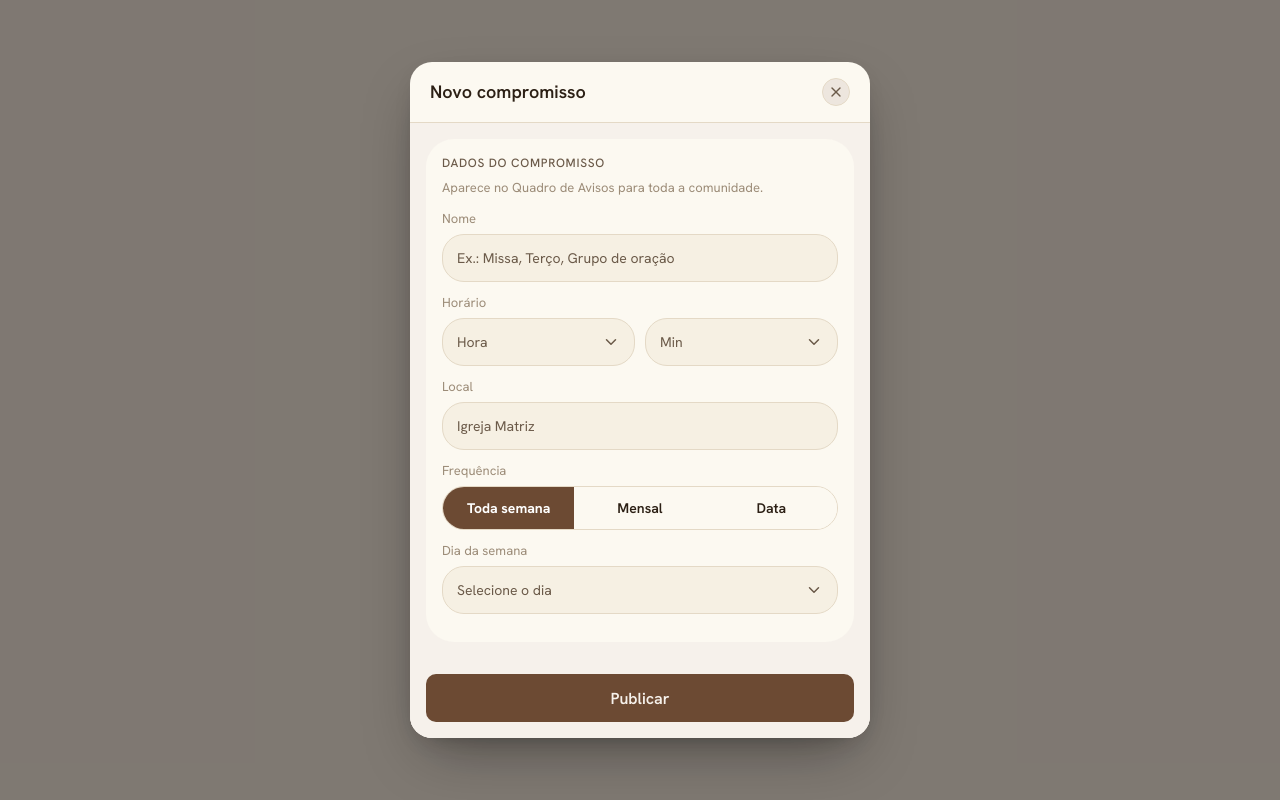
it: ModalCommitmentForm · criação › limpa o erro do campo ao digitar
Click the button "Publicar".
click(640, 698)  # box x1=426 y1=674 x2=854 y2=722
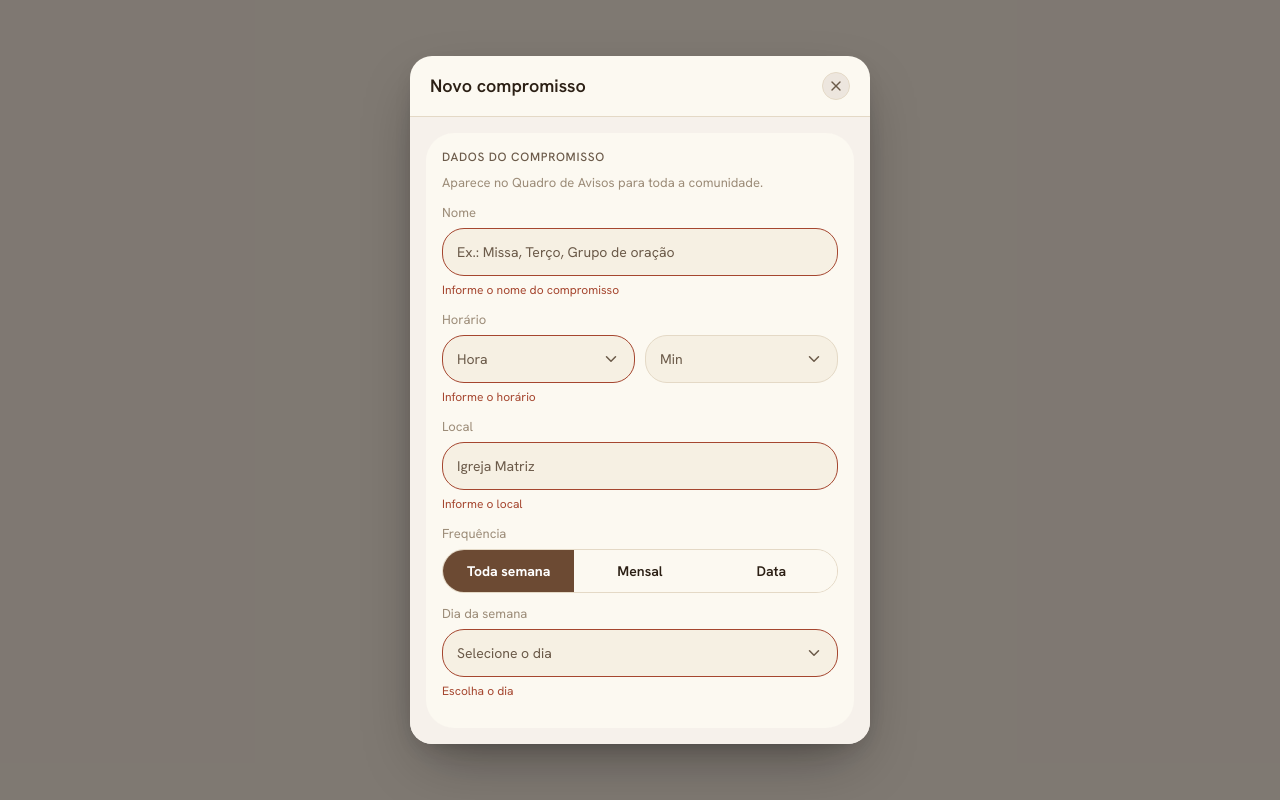
expect the text "Informe o nome do compromisso" is shown: met, box x1=442 y1=282 x2=619 y2=298
Type "Terço" into the field with placeholder "Ex.: Missa, Terço, Grupo de oração".
click(640, 252); type("Terço")  # box x1=457 y1=229 x2=823 y2=275
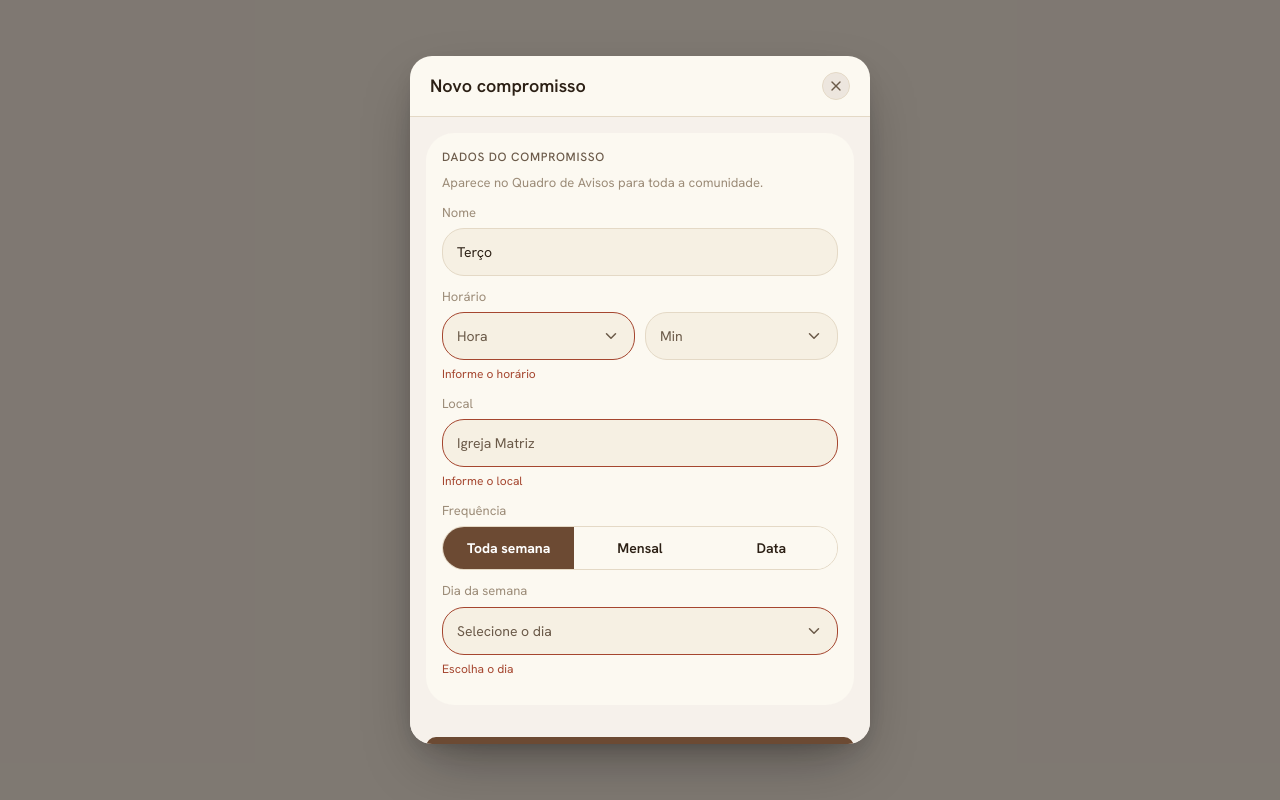
expect the text "Informe o nome do compromisso" is gone: met
